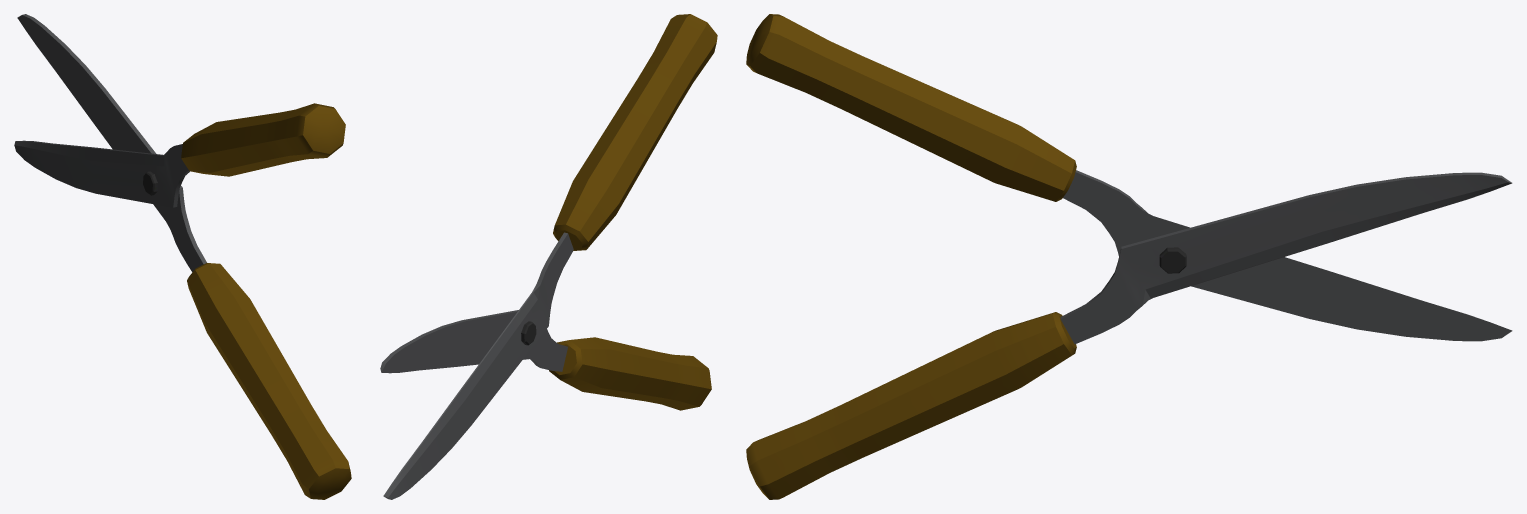
The model's file is TijeraOriginal.fbx.
The picture shows the model from 3 angles, left to right: view 1: azimuth 30°, elevation 25°; view 2: azimuth 150°, elevation 25°; view 3: azimuth 270°, elevation 25°; orthographic projection. The views are drawn at different scales.
Visible parts, largest first — view 1: Tijeras; view 2: Tijeras; view 3: Tijeras.
Part boxes in pixels (left/top/right/bottom): Tijeras: left=14, top=14, right=351, bottom=499; Tijeras: left=380, top=14, right=717, bottom=499; Tijeras: left=746, top=14, right=1512, bottom=499.
Size of the model in its own units: 6.05 by 42.08 by 61.05.
